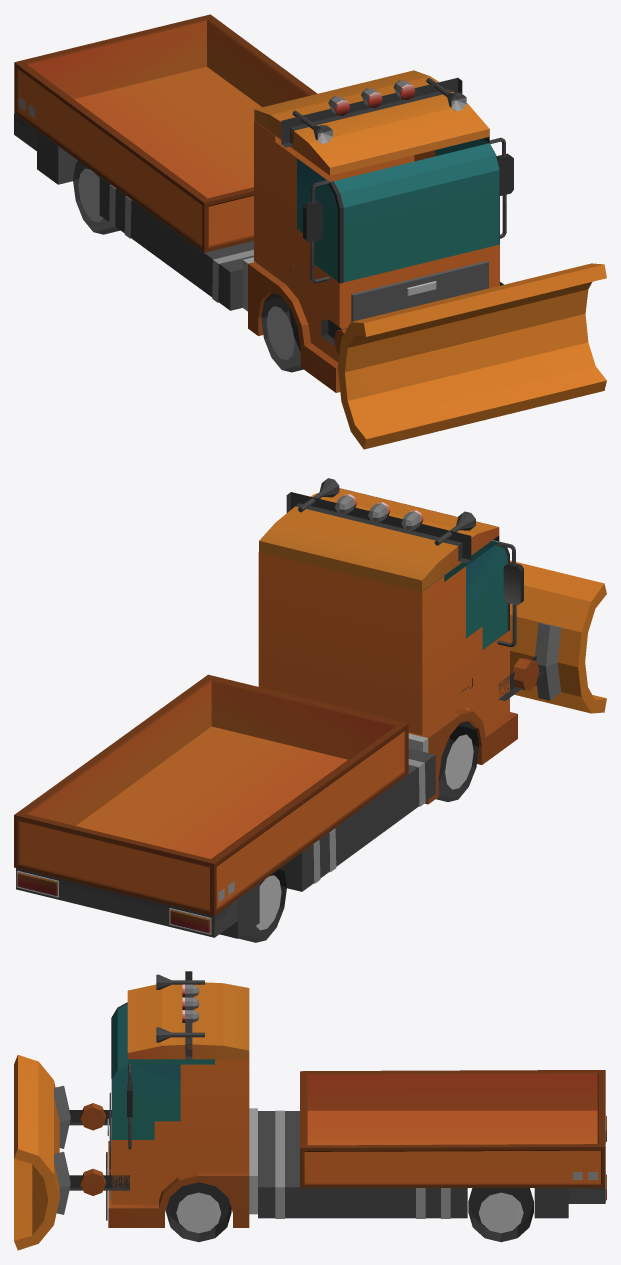
The model's file is 工程车11.gltf.
3 views of the same model, one above another, from view 1: azimuth 30°, elevation 25°; view 2: azimuth 150°, elevation 25°; view 3: azimuth 270°, elevation 25° (orthographic). The views are drawn at different scales.
Parts seen in each view (by area): view 1: 工程车11; view 2: 工程车11; view 3: 工程车11.
Part boxes in pixels (<box>): 工程车11: <box>14,14,606,449</box>; 工程车11: <box>14,478,606,942</box>; 工程车11: <box>14,971,606,1250</box>.
Size of the model in its own units: 2.12 by 2.21 by 5.62.
Materials: 1 (1 with a texture image).
